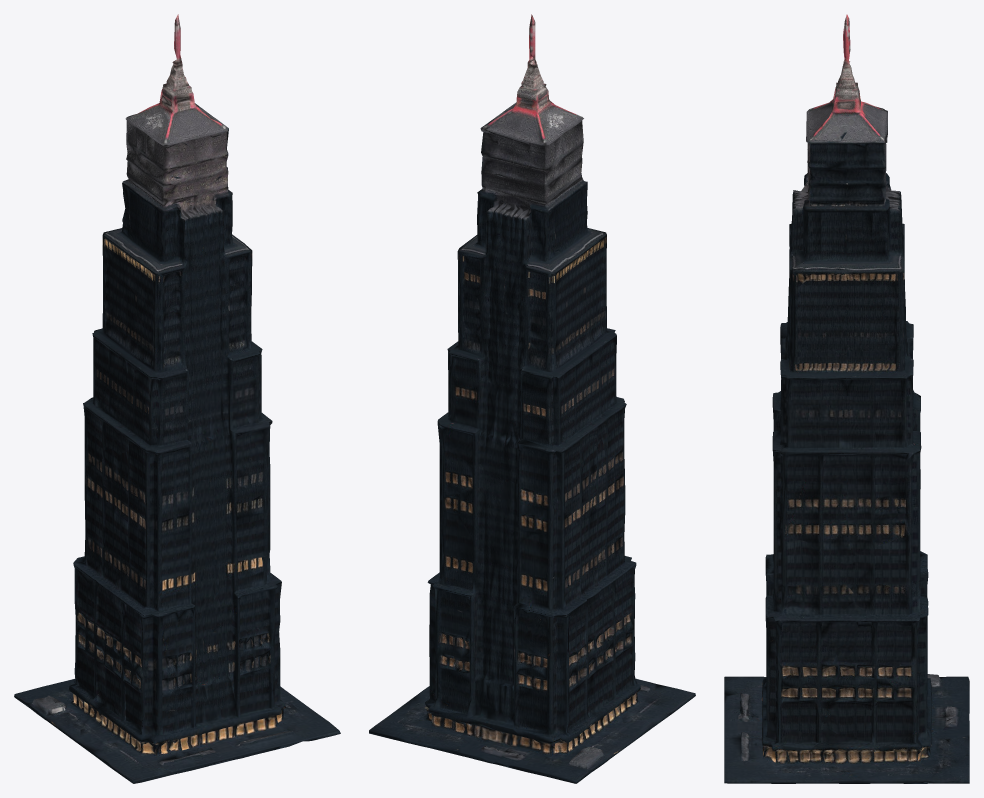
Rendered from tower_b.glb.
3 views of the same model, side by side, from view 1: azimuth 30°, elevation 25°; view 2: azimuth 150°, elevation 25°; view 3: azimuth 270°, elevation 25° (orthographic). The views are drawn at different scales.
Size of the model in its own units: 0.5883 by 1.9 by 0.5881.
1 material, 1 textured.
